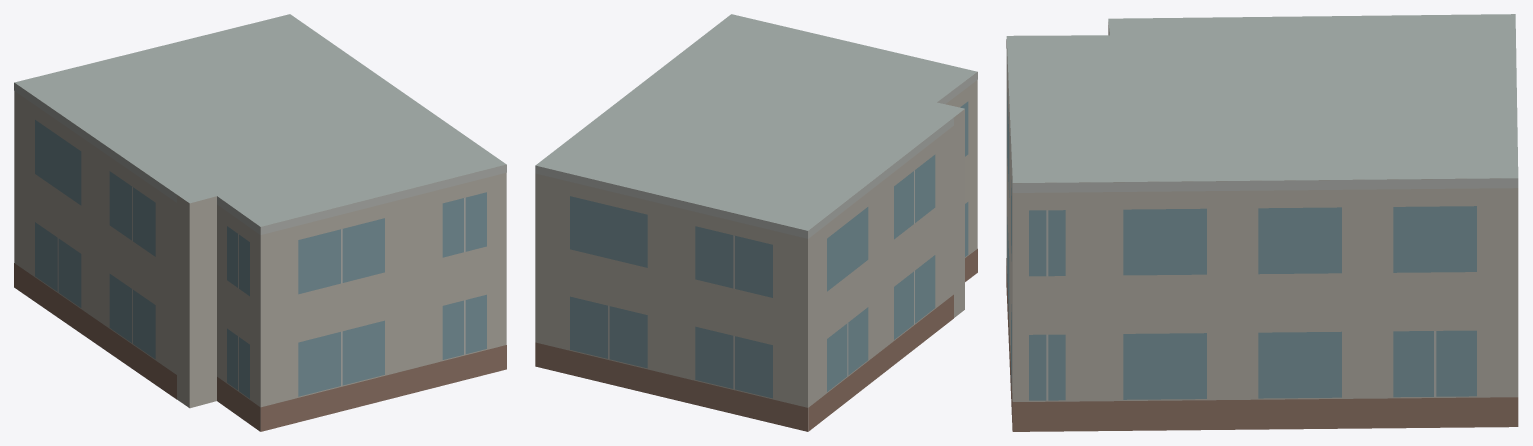
File: survey-upis-32568937.glb
3 renders of one model, left to right at view 1: azimuth 30°, elevation 25°; view 2: azimuth 150°, elevation 25°; view 3: azimuth 270°, elevation 25°, orthographic. The views are drawn at different scales.
Visible parts, largest first — view 1: survey-upis-32568937.tmp; view 2: survey-upis-32568937.tmp; view 3: survey-upis-32568937.tmp.
Boxes of the visible parts, bbox=[...] form: survey-upis-32568937.tmp: bbox=[14, 14, 506, 431]; survey-upis-32568937.tmp: bbox=[535, 14, 977, 431]; survey-upis-32568937.tmp: bbox=[1006, 14, 1518, 431].
Size of the model in its own units: 8.9 by 6.1 by 11.39.
